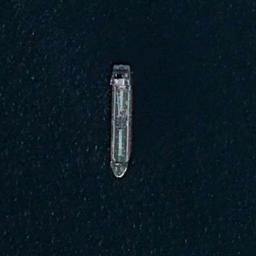boat: (108, 62, 134, 178)
